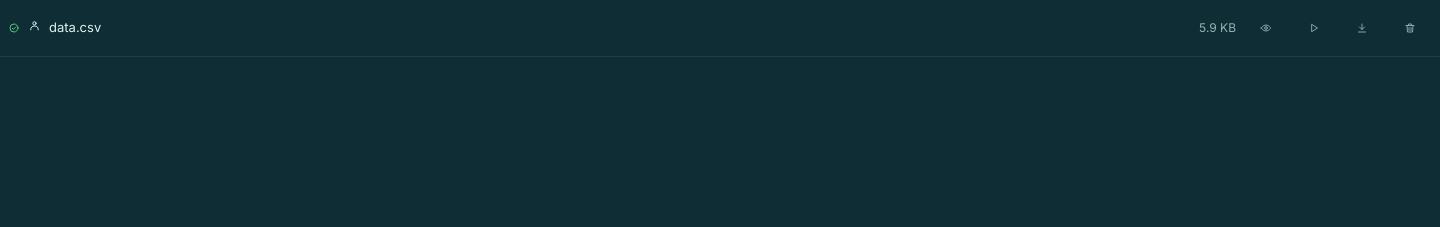
Test case: BlobRow structural self-disclosure (T-3) › HONESTY: a truncated preview shows known columns but refuses a row count
The image size is (1440, 227).
Click the button named "preview data.csv" at (1266, 28), box left=1244, top=6, right=1288, bottom=50
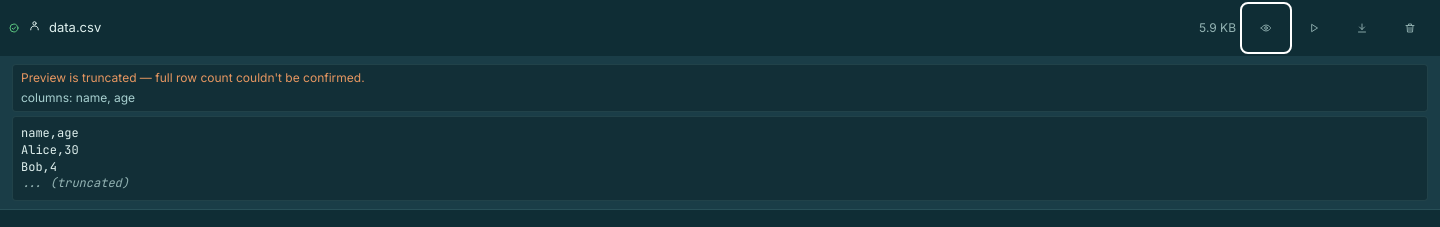
Expected: the element with test id "blob-row-structure" shows "truncated", left=21, top=70, right=365, bottom=85
Expected: the element with test id "blob-row-structure" shows "columns: name, age", left=21, top=90, right=135, bottom=105
